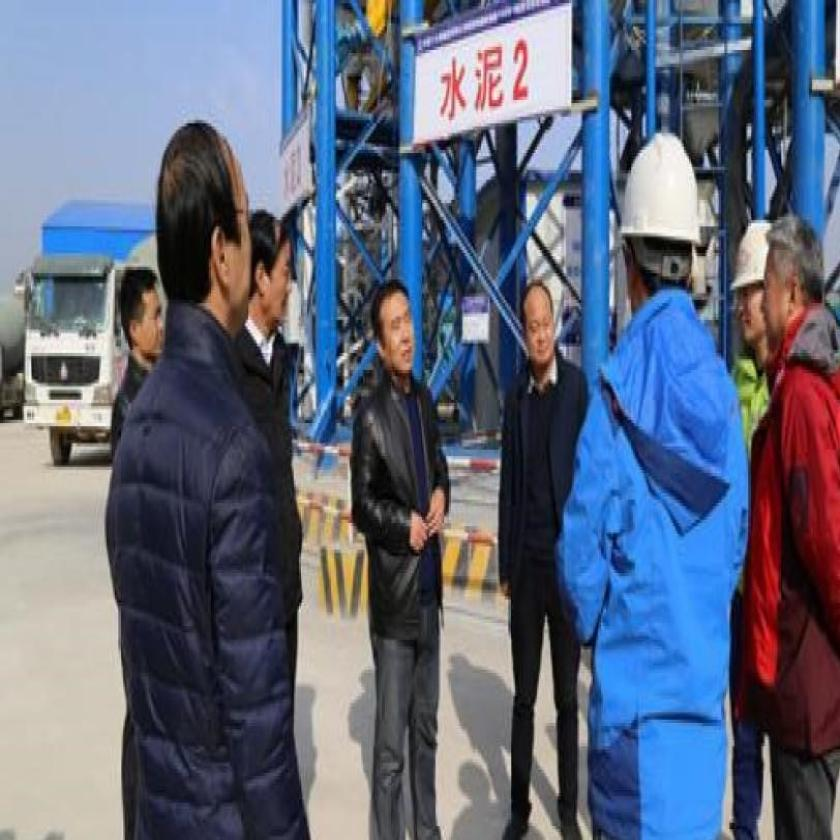Con_casco: (618, 113, 712, 327)
Sin_casco: (154, 113, 255, 355), (762, 214, 828, 365), (245, 207, 296, 347), (370, 276, 419, 383), (118, 266, 166, 365), (519, 276, 560, 380)
